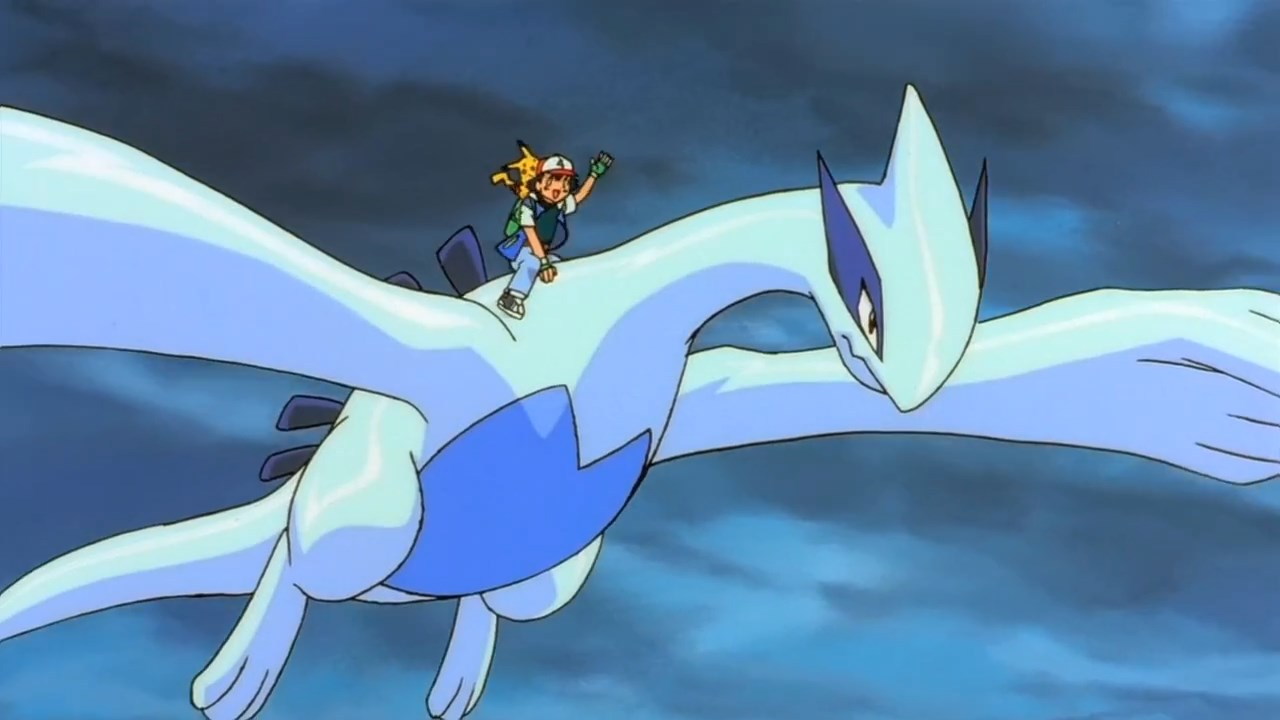lugia: (791, 82, 987, 414)
